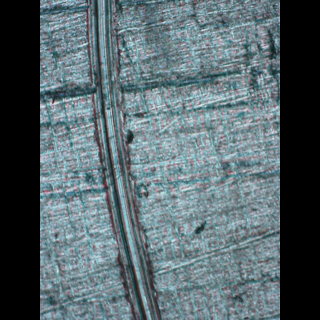d: (83, 0, 165, 319)
